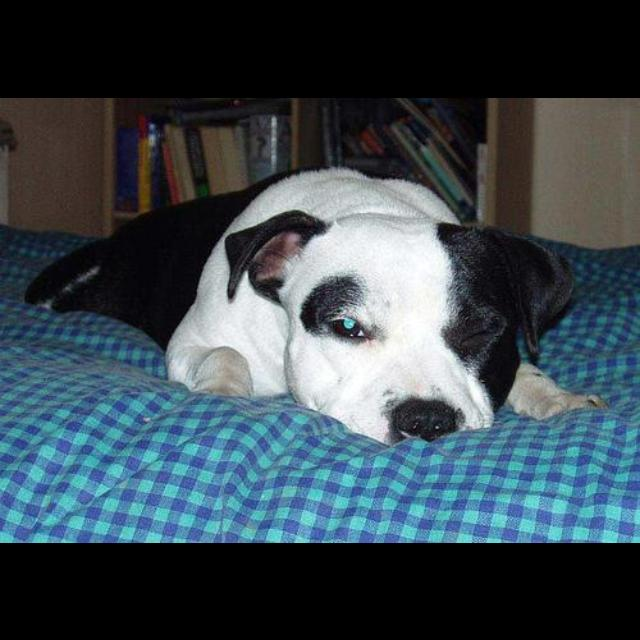amstaff: (24, 165, 610, 446)
